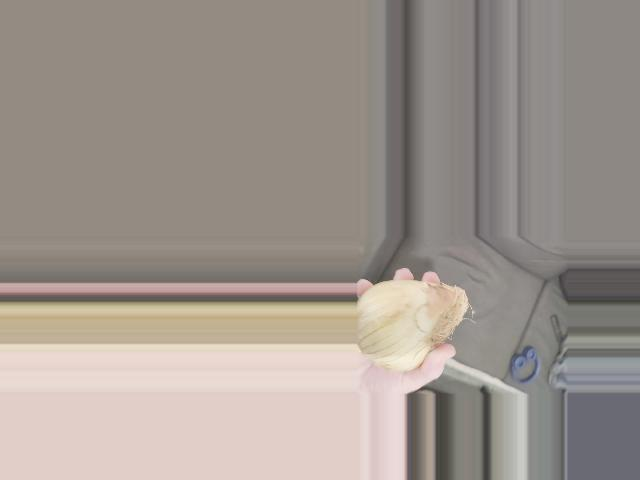onion: (362, 279, 470, 369)
